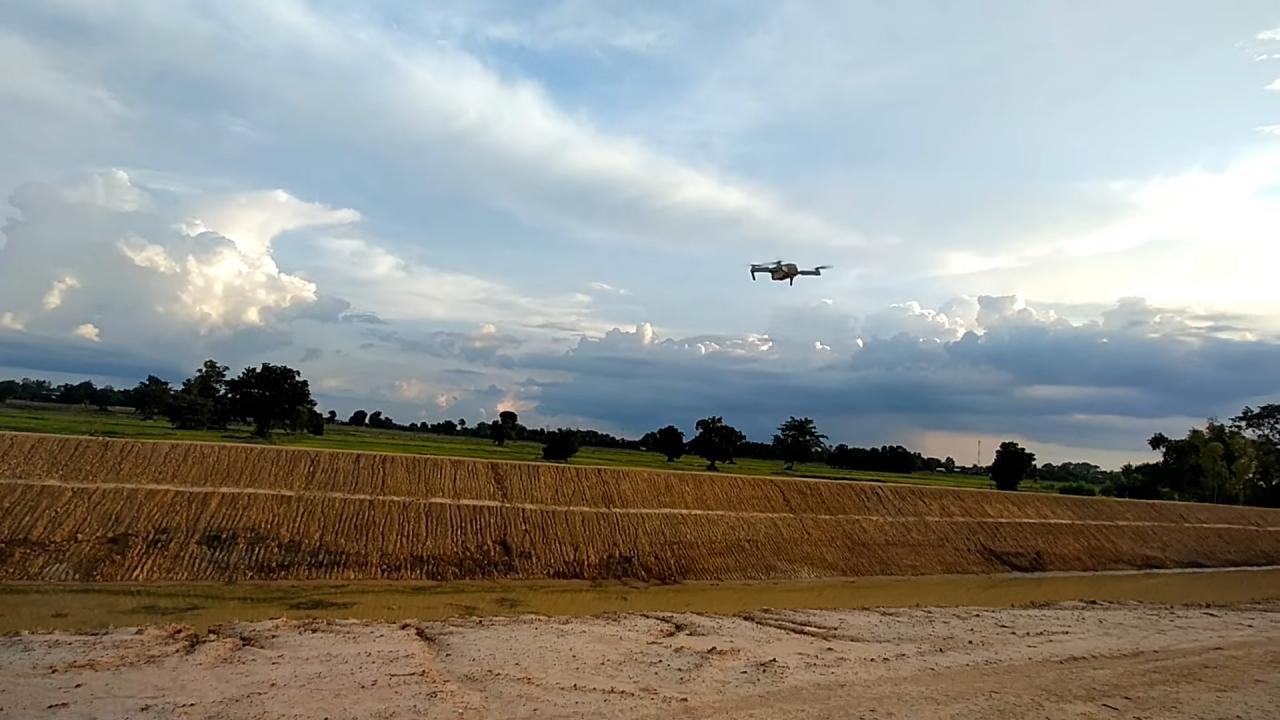Drone: (734, 246, 841, 297)
